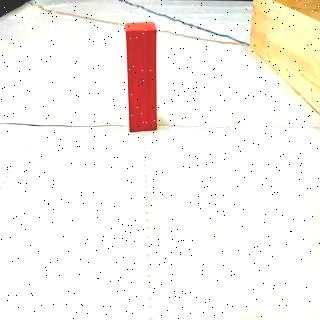redbox: (125, 22, 158, 132)
